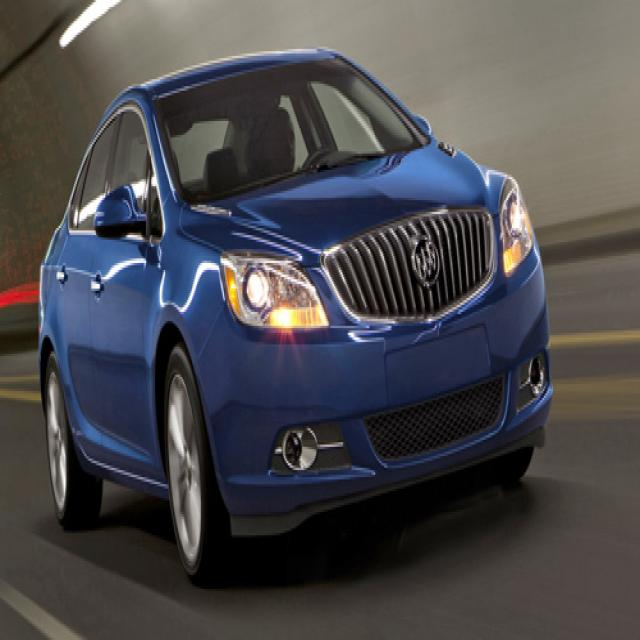car: (23, 47, 556, 591)
